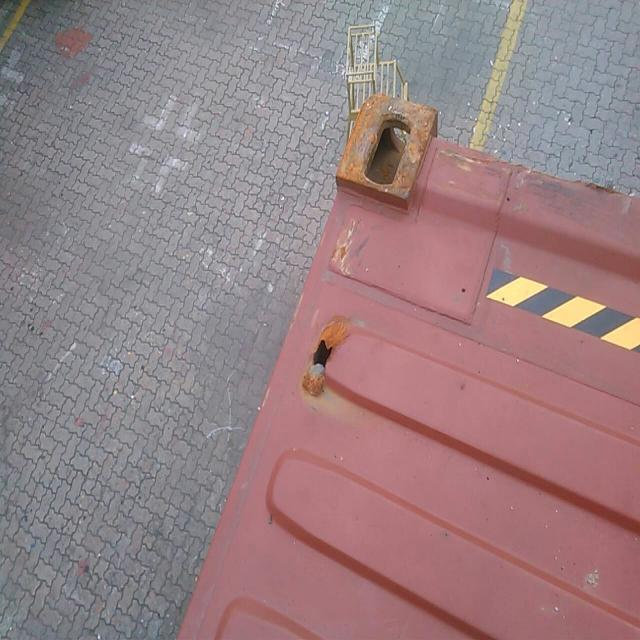hole: (305, 324, 349, 382)
